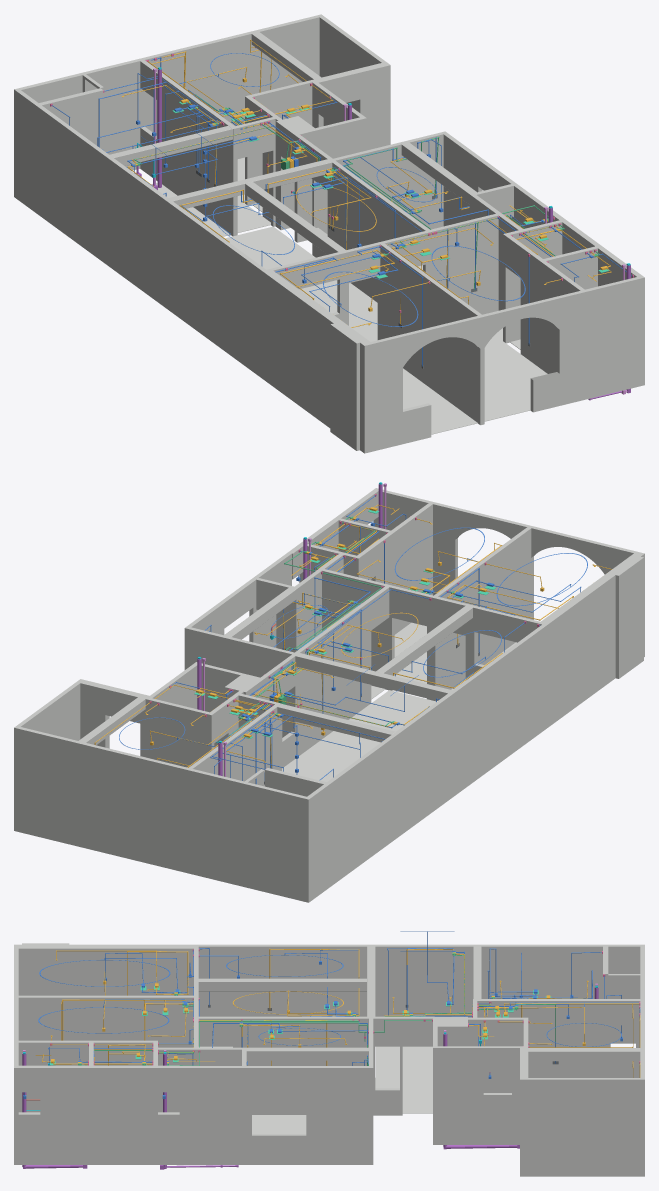
3 views of the same model, one above another, from view 1: azimuth 30°, elevation 25°; view 2: azimuth 150°, elevation 25°; view 3: azimuth 270°, elevation 25° (orthographic). The views are drawn at different scales.
Visible parts, largest first — view 1: layer-16, layer-14, layer-25, layer-8, layer-27, layer-6, layer-26, layer-18, layer-24, layer-32, layer-0; view 2: layer-16, layer-14, layer-25, layer-8, layer-27, layer-6, layer-26, layer-18, layer-24, layer-32, layer-0; view 3: layer-16, layer-14, layer-8, layer-25, layer-6, layer-27, layer-26, layer-18, layer-32, layer-24, layer-0, layer-7.
Boxes of the visible parts, x1,y1,x2,y2 form: layer-16: (14,14,644,453); layer-14: (151,157,547,434); layer-25: (51,73,450,311); layer-8: (127,46,594,325); layer-27: (126,57,594,366); layer-6: (123,39,611,327); layer-26: (136,53,525,326); layer-18: (134,94,599,290); layer-24: (98,81,632,281); layer-32: (136,69,630,400); layer-0: (172,101,609,278); layer-16: (14,488,644,902); layer-14: (282,622,516,781); layer-25: (177,558,581,780); layer-8: (187,517,573,768); layer-27: (231,518,540,784); layer-6: (94,504,612,765); layer-26: (119,527,587,772); layer-18: (229,516,454,737); layer-24: (171,495,515,780); layer-32: (197,484,382,775); layer-0: (194,510,495,738); layer-16: (14,943,644,1176); layer-14: (198,1046,432,1133); layer-8: (62,948,640,1077); layer-25: (103,931,621,1065); layer-6: (42,950,633,1077); layer-27: (78,948,640,1065); layer-26: (38,931,622,1046); layer-18: (78,952,556,1065); layer-32: (22,987,598,1169); layer-24: (24,948,592,1095); layer-0: (50,986,551,1065); layer-7: (35,959,588,1061).
Bounding box in the file's own units: 9.06 × 3.96 × 17.71.
